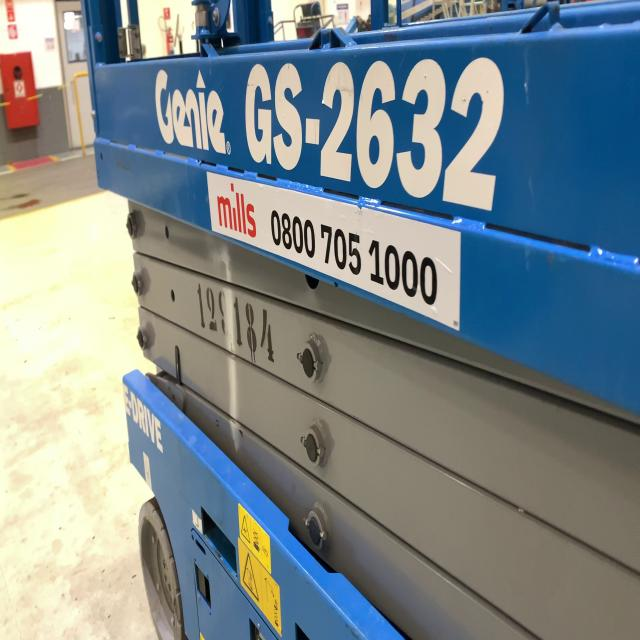Adesivo Longo: (202, 160, 470, 348)
